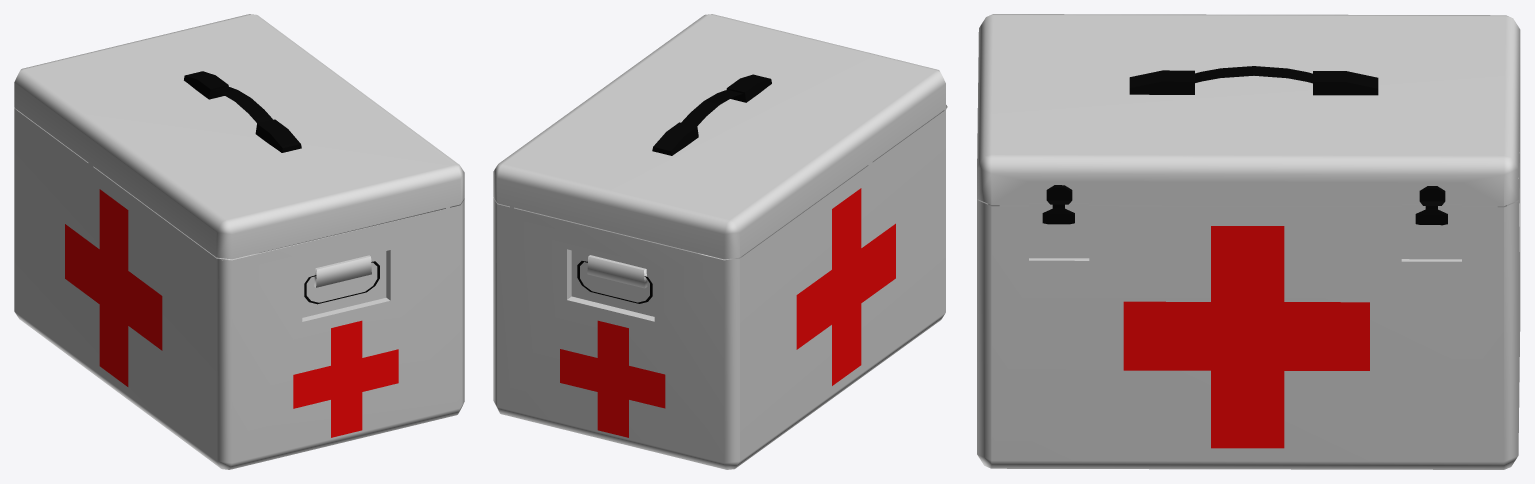
File: yaoxiang.fbx
The picture shows the model from 3 angles, left to right: view 1: azimuth 30°, elevation 25°; view 2: azimuth 150°, elevation 25°; view 3: azimuth 270°, elevation 25°; orthographic projection. The views are drawn at different scales.
Visible parts, largest first — view 1: polySurface4; view 2: polySurface4; view 3: polySurface4.
Boxes of the visible parts, x1,y1,x2,y2 form: polySurface4: (14,14,464,469); polySurface4: (493,14,947,469); polySurface4: (977,14,1520,469).
Bounding box in the file's own units: 34.04 × 34.01 × 50.67.
